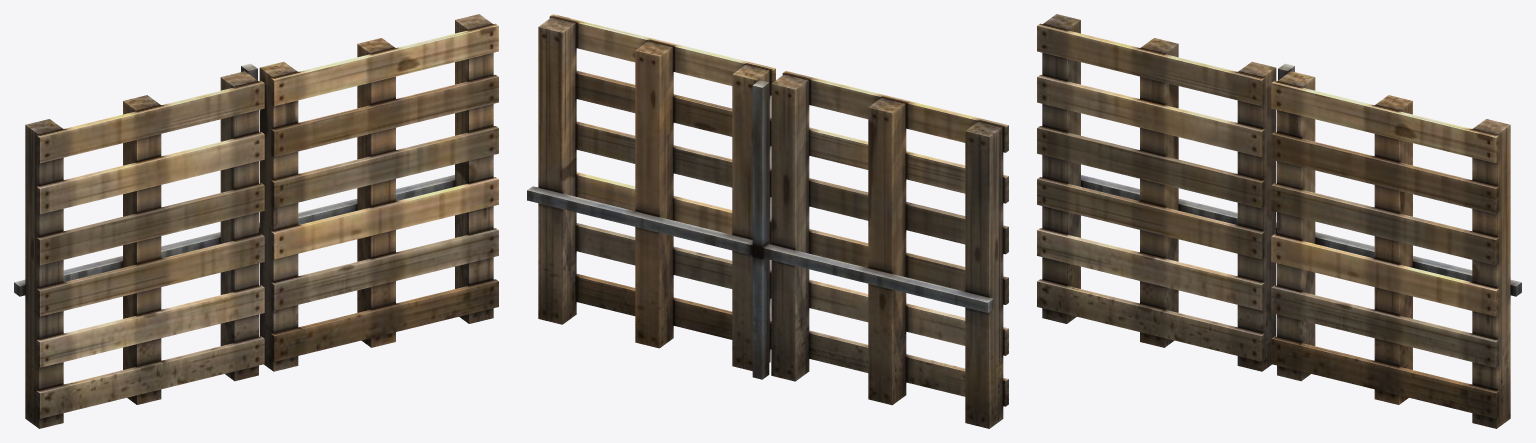
File: div_palete.glb
3 renders of one model, left to right at view 1: azimuth 30°, elevation 25°; view 2: azimuth 150°, elevation 25°; view 3: azimuth 330°, elevation 25°, orthographic.
Visible parts, largest first — view 1: div_palete; view 2: div_palete; view 3: div_palete.
Boxes of the visible parts, <box> form: div_palete: <box>14,14,498,428</box>; div_palete: <box>527,14,1008,428</box>; div_palete: <box>1037,14,1521,428</box>.
Bounding box in the file's own units: 1.9 × 1.15 × 0.166.
Materials: 1 (1 with a texture image).
